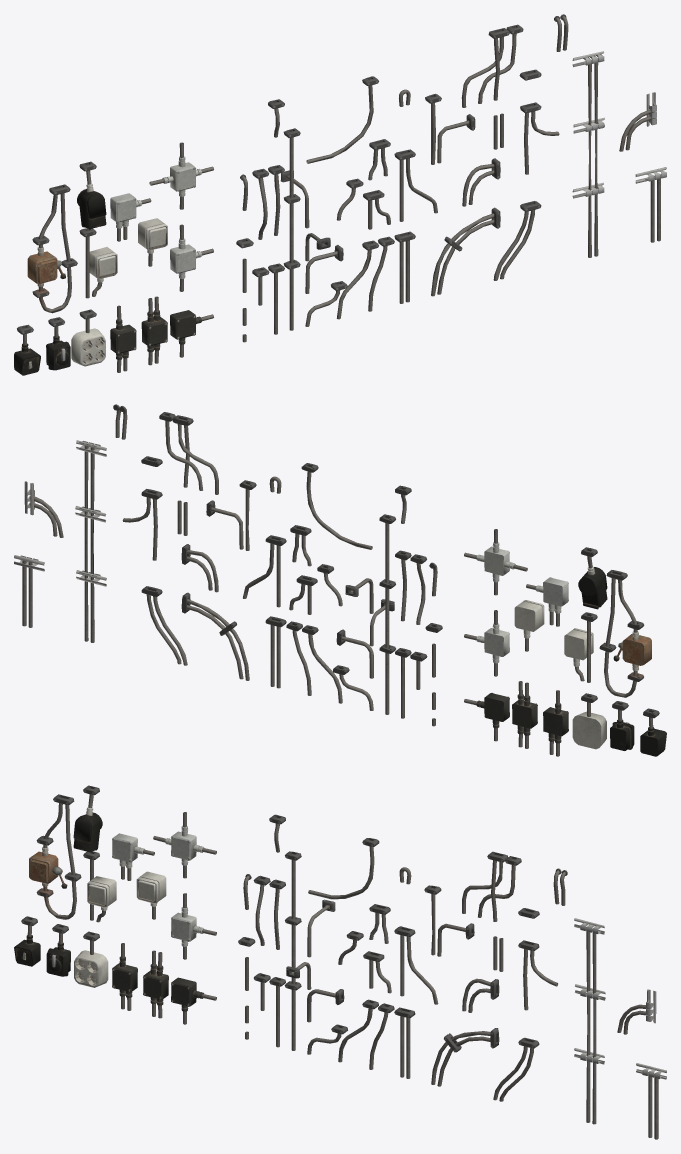
File: cables.glb
3 views of the same model, one above another, from view 1: azimuth 30°, elevation 25°; view 2: azimuth 150°, elevation 25°; view 3: azimuth 330°, elevation 25° (orthographic).
Parts seen in each view (by area): view 1: cable_switch, cable_double_alt_long, cable_3way_junction, cable_plug_4x, cable_lightswitch_double, cable_straight_long, cable_plug_covered_2, cable_double_turn_long, cable_box_double, cable_box_4way, cable_box_double_to_single, cable_box_3way (+14 smaller); view 2: cable_double_alt_long, cable_switch, cable_3way_junction, cable_plug_4x, cable_straight_long, cable_lightswitch_double, cable_double_turn_long, cable_plug_covered_2, cable_box_double, cable_box_4way, cable_box_double_to_single_2, cable_box_double_to_single (+14 smaller); view 3: cable_double_alt_long, cable_switch, cable_plug_4x, cable_3way_junction, cable_straight_long, cable_plug_covered_2, cable_lightswitch_double, cable_double_turn_long, cable_box_4way, cable_box_double, cable_box_3way, cable_box_double_to_single (+14 smaller).
Part boxes in pixels (x1,y1,x2,y2): cable_switch: (27, 184, 77, 313); cable_double_alt_long: (572, 51, 604, 257); cable_3way_junction: (461, 24, 523, 107); cable_plug_4x: (71, 309, 105, 366); cable_lightswitch_double: (79, 228, 117, 298); cable_straight_long: (283, 128, 300, 330); cable_plug_covered_2: (77, 161, 106, 228); cable_double_turn_long: (431, 207, 500, 296); cable_box_double: (141, 296, 167, 365); cable_box_4way: (149, 142, 213, 209); cable_box_double_to_single: (110, 305, 136, 372); cable_box_3way: (170, 224, 213, 291); cable_double_alt_long: (75, 440, 106, 642); cable_switch: (599, 570, 651, 697); cable_3way_junction: (159, 412, 218, 494); cable_plug_4x: (572, 693, 606, 749); cable_straight_long: (379, 514, 395, 714); cable_lightswitch_double: (564, 612, 597, 682); cable_double_turn_long: (181, 592, 249, 680); cable_plug_covered_2: (578, 547, 607, 609); cable_box_double: (512, 681, 537, 748); cable_box_4way: (464, 529, 527, 595); cable_box_double_to_single_2: (526, 577, 568, 626); cable_box_double_to_single: (543, 690, 568, 756); cable_double_alt_long: (574, 918, 605, 1124); cable_switch: (29, 794, 81, 919); cable_plug_4x: (74, 931, 108, 987); cable_3way_junction: (462, 851, 521, 921); cable_straight_long: (284, 851, 301, 1050); cable_plug_covered_2: (73, 785, 102, 851); cable_lightswitch_double: (83, 851, 116, 922); cable_double_turn_long: (431, 1028, 499, 1086); cable_box_4way: (153, 812, 216, 878); cable_box_double: (143, 950, 168, 1018); cable_box_3way: (171, 893, 216, 959); cable_box_double_to_single: (112, 943, 137, 1010).
Bounding box in the file's own units: 3 × 1.09 × 0.3099.
Materials: 2 (2 with a texture image).
